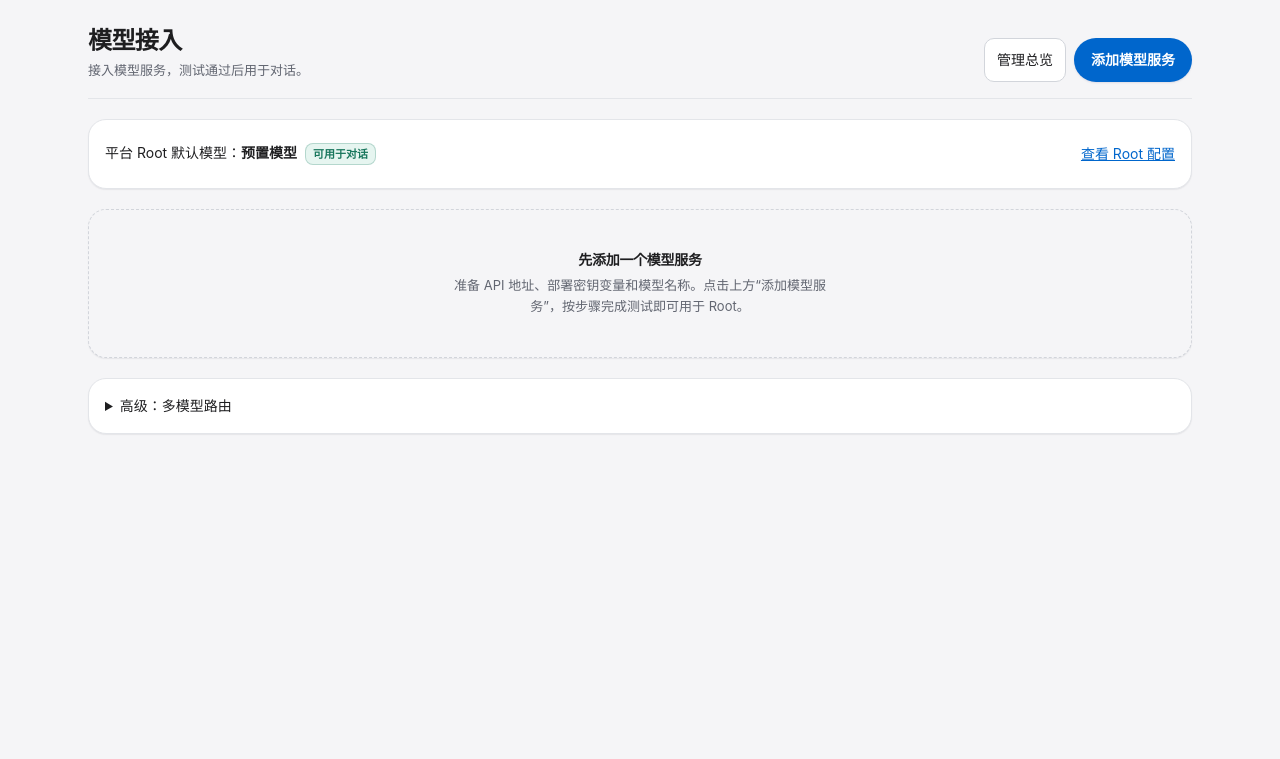
it: 首次接入自动生成 ID，通过发现选择模型而不用手填内部标识
Check: the heading "先添加一个模型服务" is shown, box [578, 250, 702, 269]
Click the button "添加模型服务". click: x=1133, y=60
box: [1074, 38, 1192, 82]
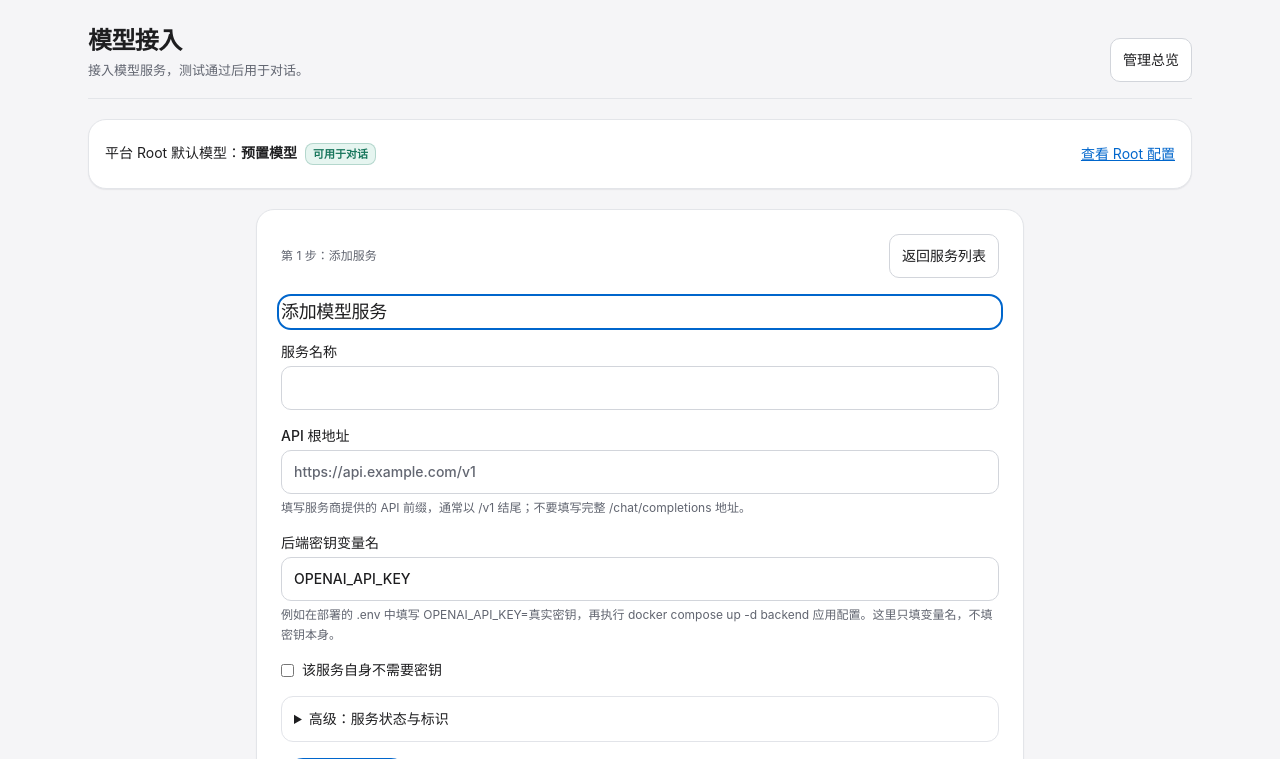
Type "新服务" into the field labelled "服务名称". click: x=640, y=388
box: [281, 366, 999, 410]
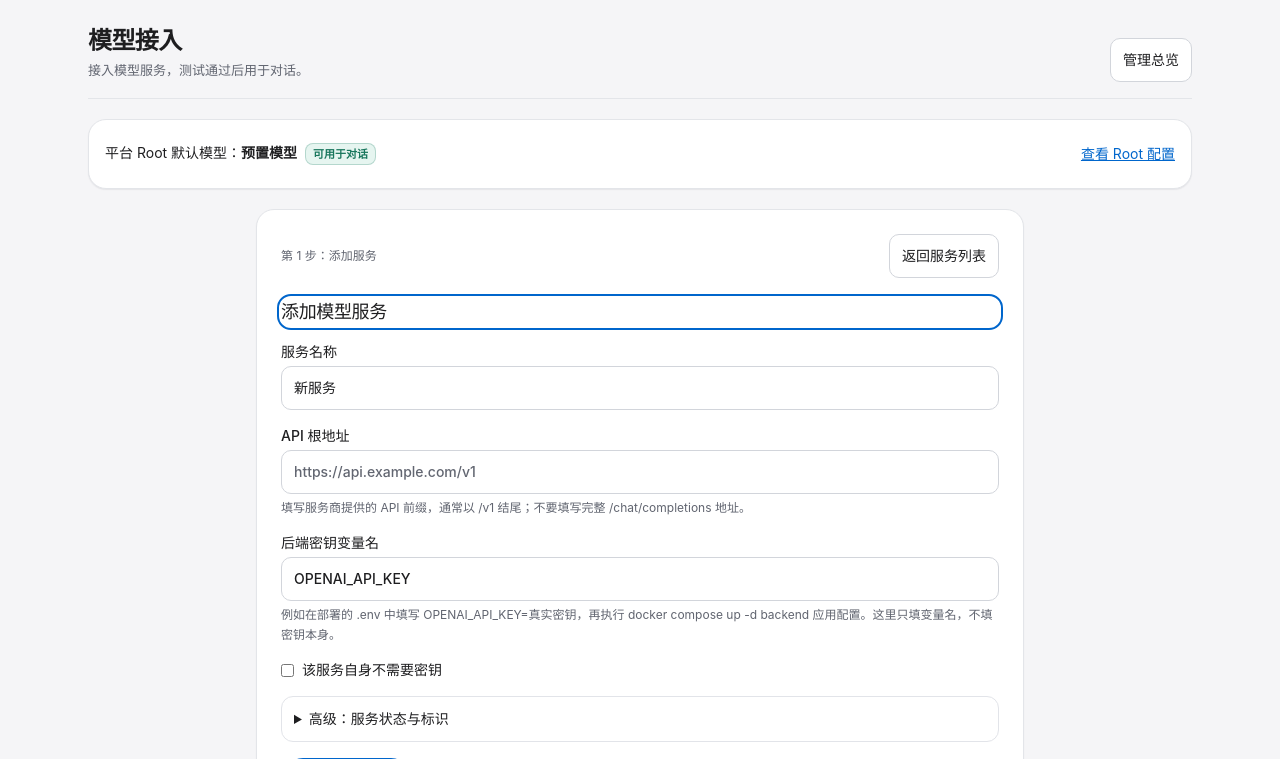
Type "https://new.example/v1" into the field labelled "API 根地址". click: x=640, y=472
box: [281, 450, 999, 494]
(page scrolled)
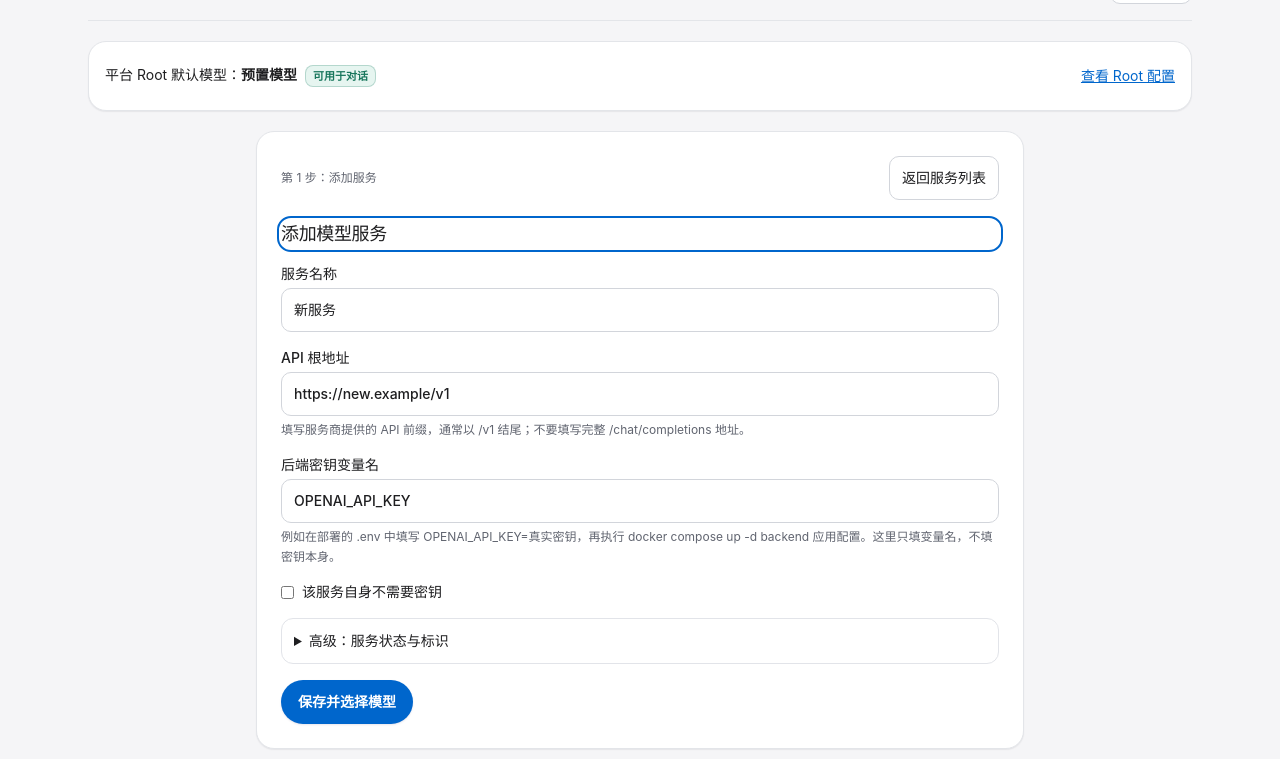
Click the button "保存并选择模型". click: x=347, y=702
box: [281, 680, 413, 724]
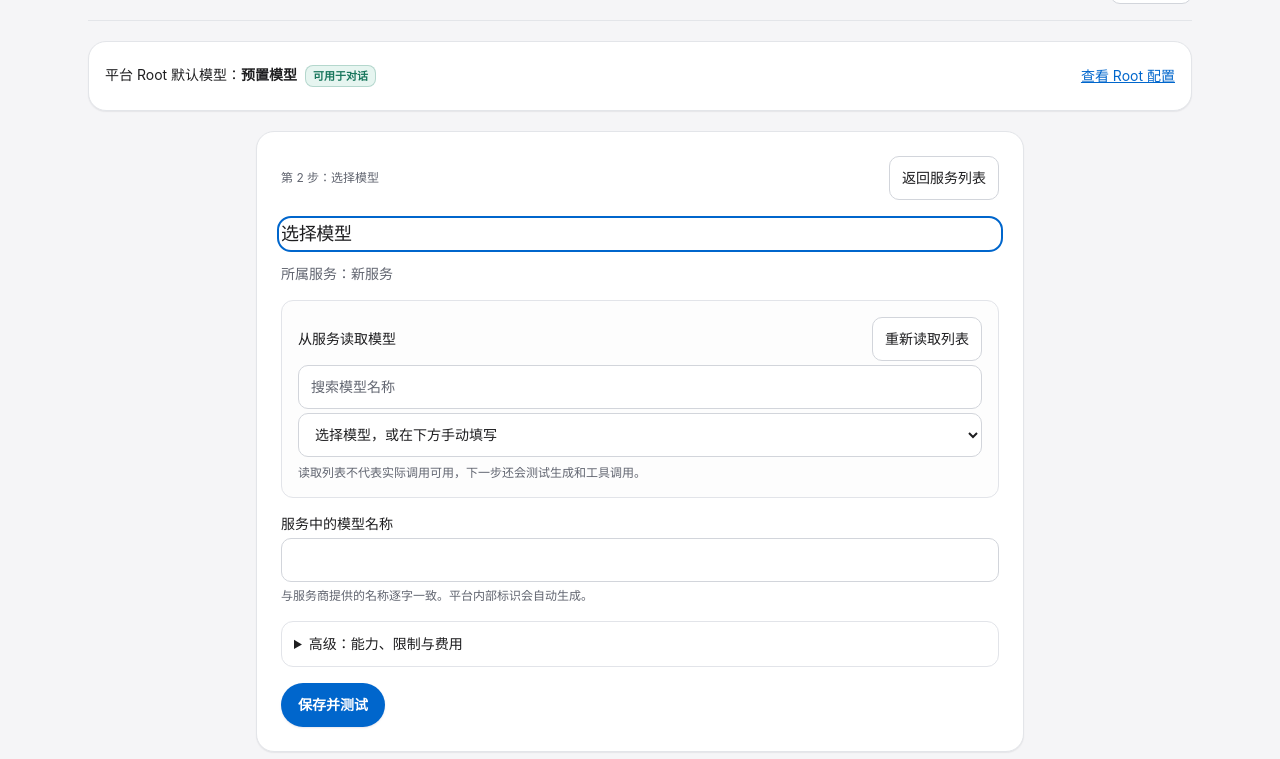
Check: the dropdown named "服务返回的模型" is shown
Select "discovered-chat" in the dropdown named "服务返回的模型". click: x=640, y=435
box: [298, 413, 982, 457]
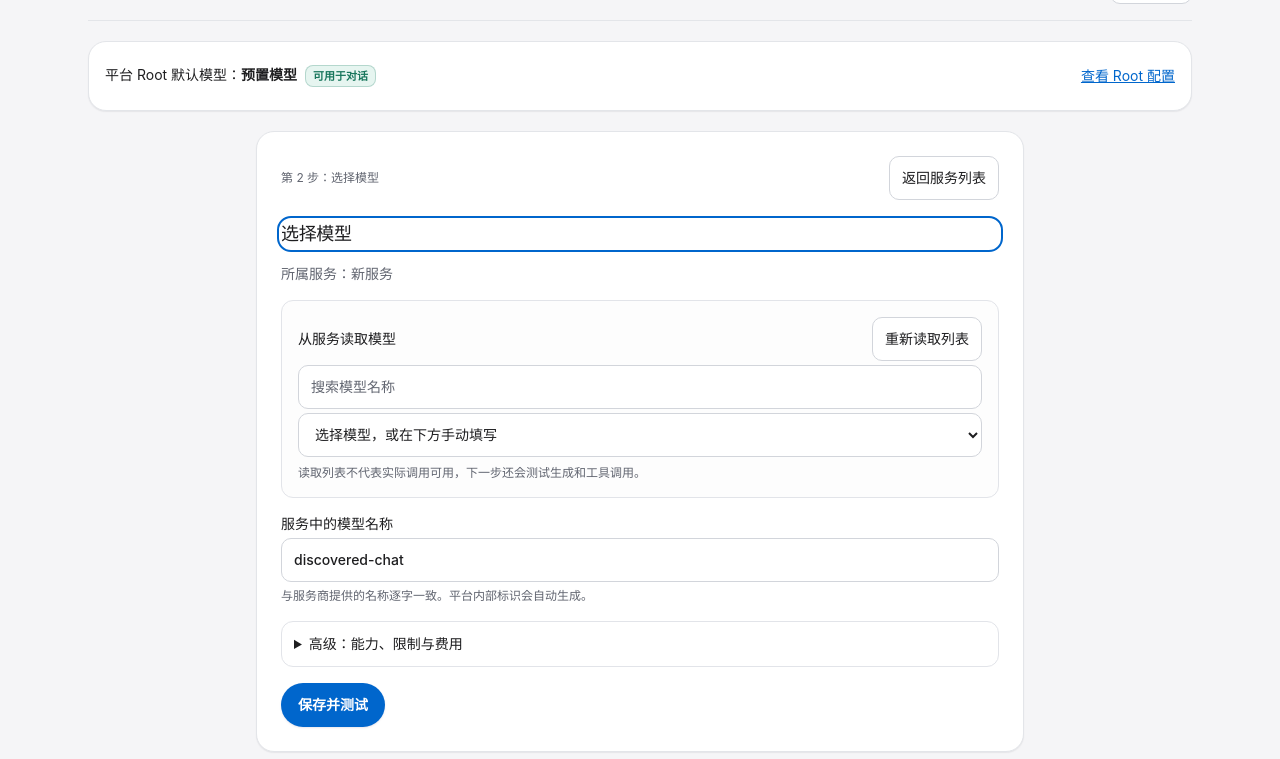
Click the button "保存并测试". click: x=333, y=705
box: [281, 683, 385, 727]
(page scrolled)
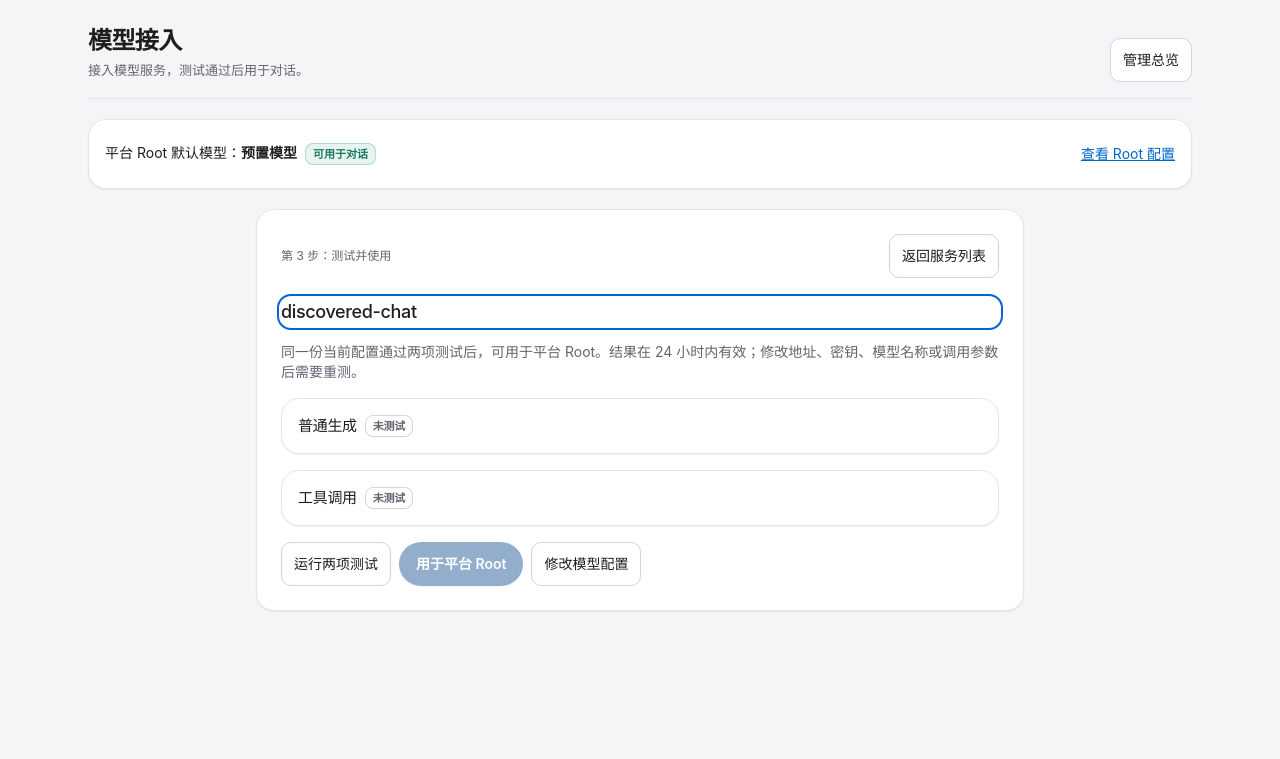
Check: the button "运行两项测试" is shown, box [281, 542, 391, 586]
Check: the heading "discovered-chat" is shown, box [281, 301, 417, 322]
